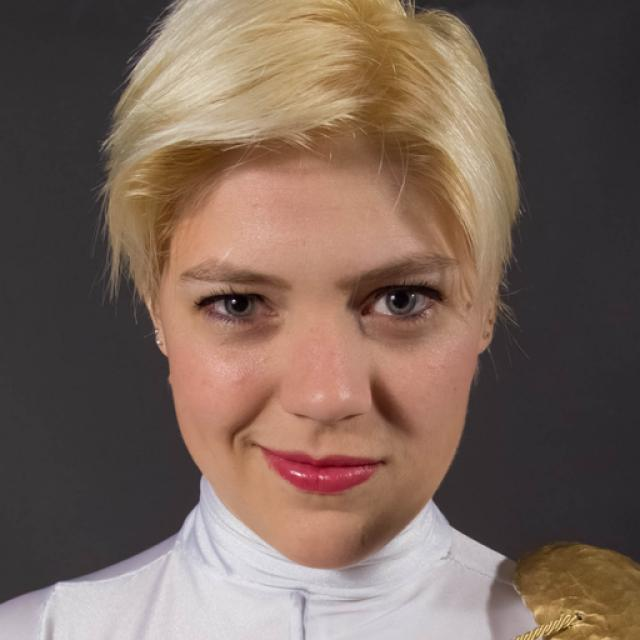Dark Circle: (356, 309, 441, 347), (205, 317, 281, 343)
